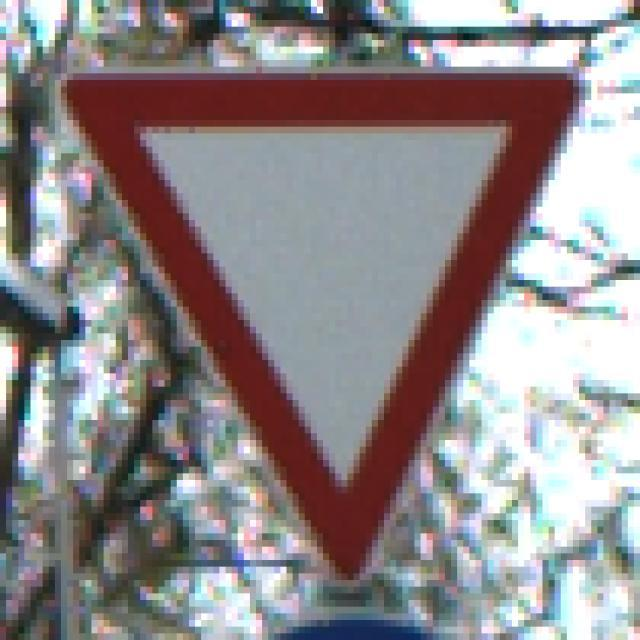give way: (48, 54, 603, 590)
